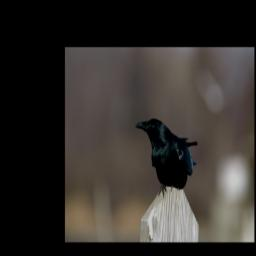Crow: (135, 119, 198, 196)
